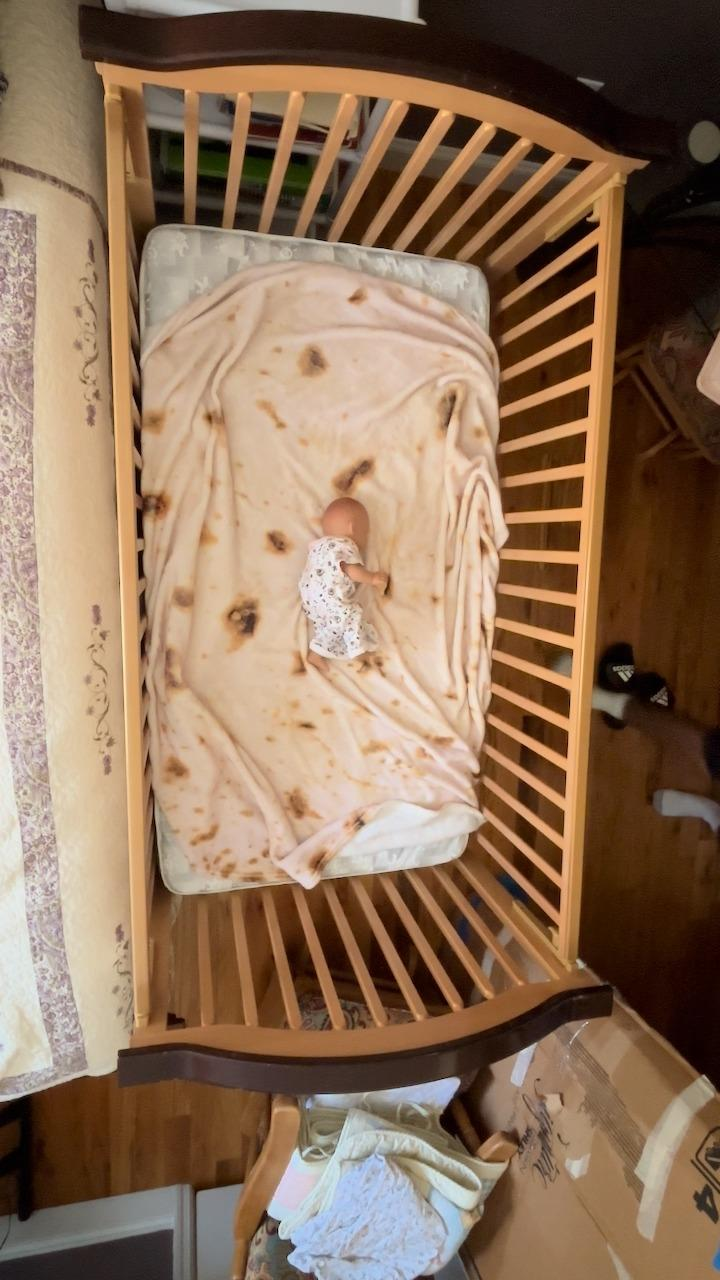baby: (296, 492, 396, 679)
